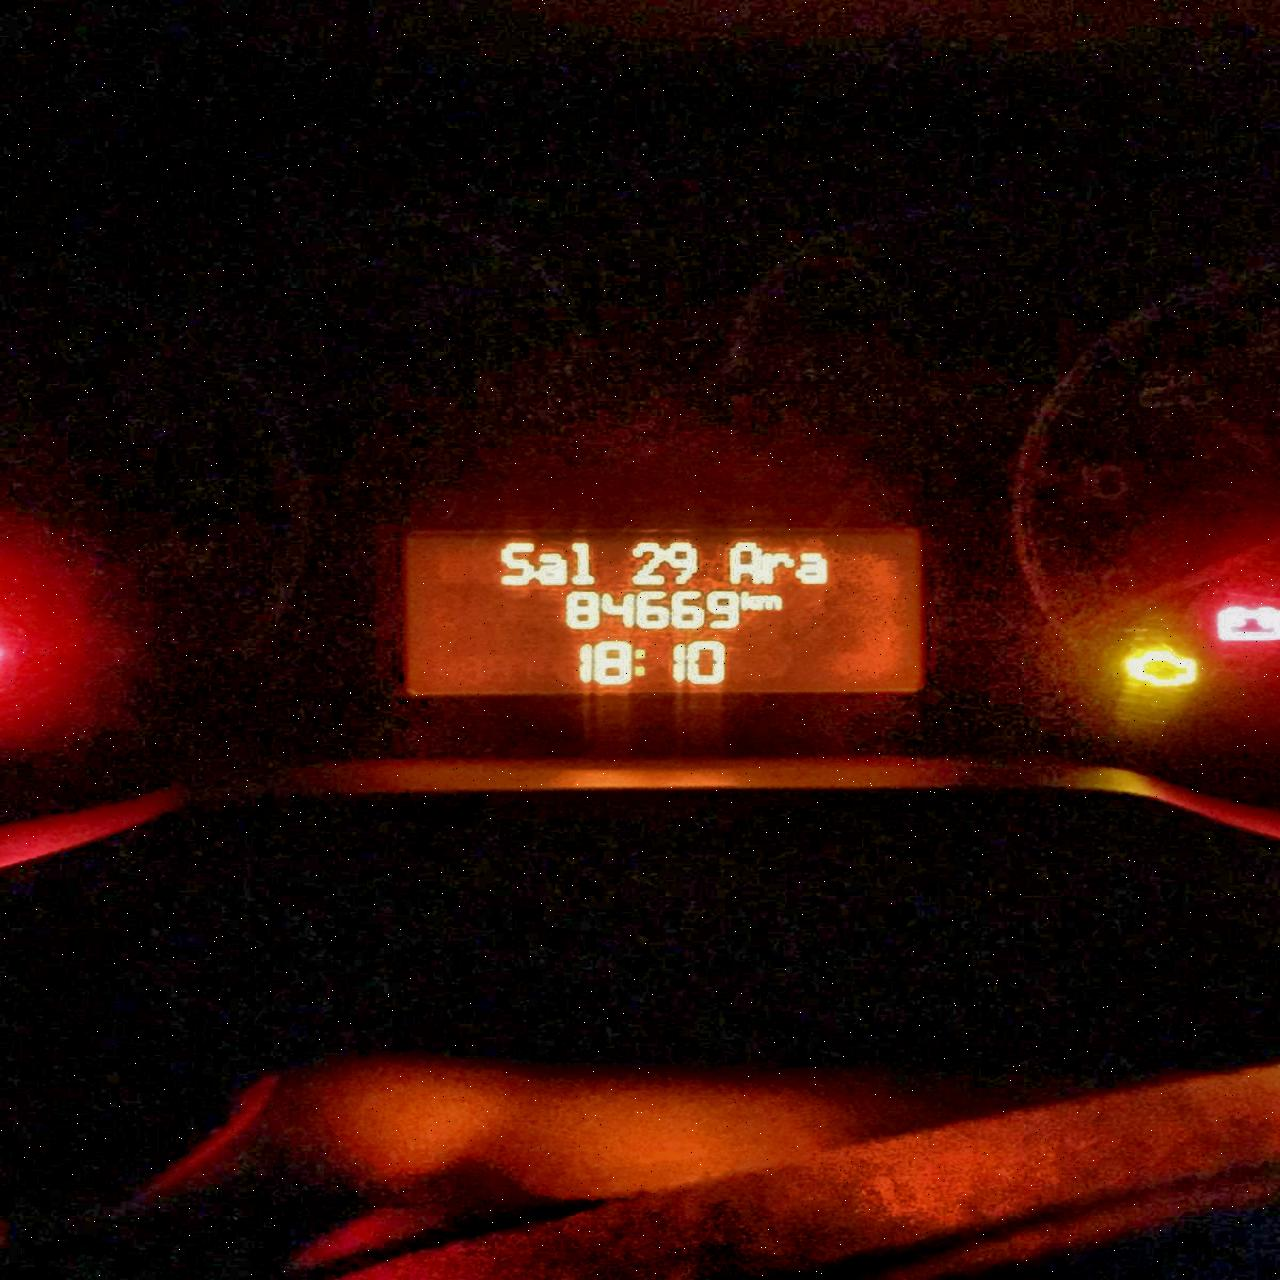0: (687, 639, 724, 686)
1: (668, 640, 686, 684), (575, 641, 593, 683)
2: (630, 538, 662, 588)
4: (600, 590, 634, 628)
6: (670, 589, 705, 630), (634, 590, 668, 630)
8: (595, 638, 635, 686), (564, 588, 601, 630)
9: (663, 540, 701, 585), (705, 589, 739, 630)
X: (500, 539, 536, 586), (728, 539, 762, 585), (570, 540, 596, 586), (538, 550, 568, 586), (760, 550, 791, 583), (796, 551, 826, 584), (632, 646, 648, 679), (739, 590, 760, 612), (759, 592, 783, 611)
odometer: (398, 523, 926, 698)
